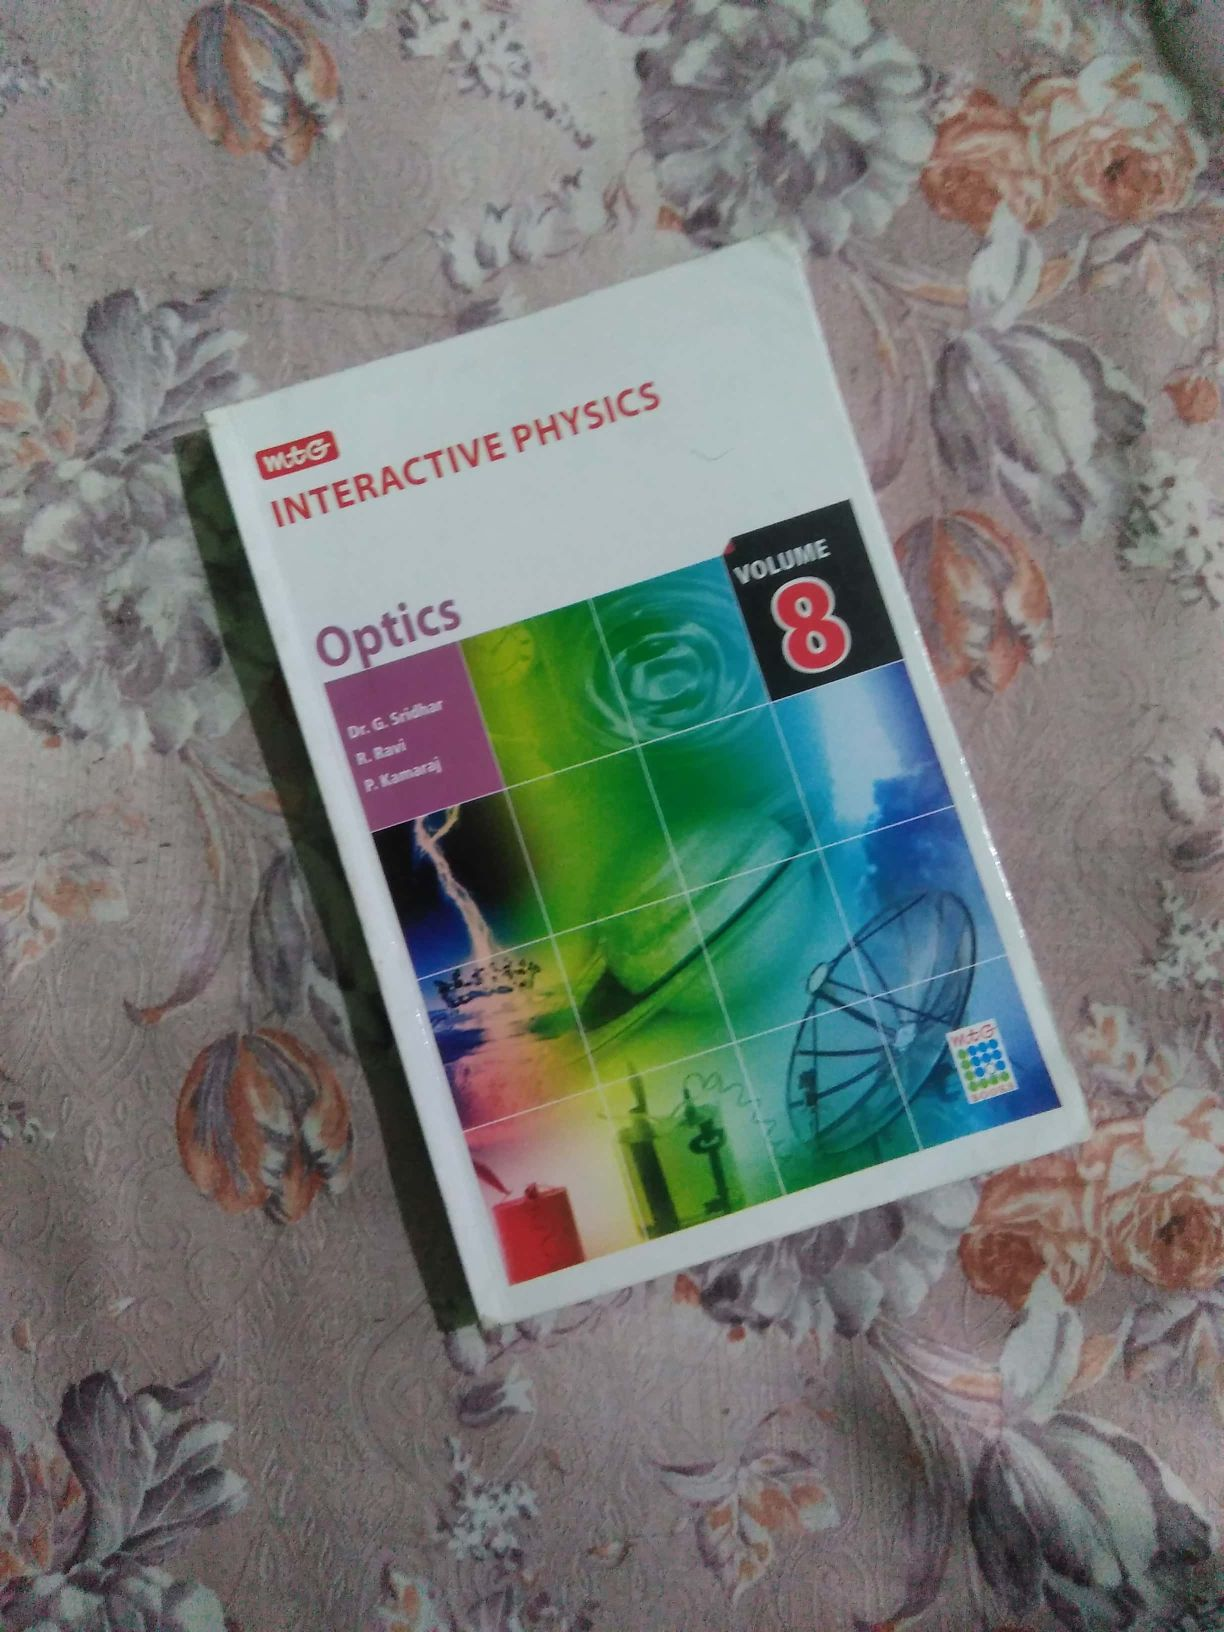optics: (180, 215, 1102, 1324)
